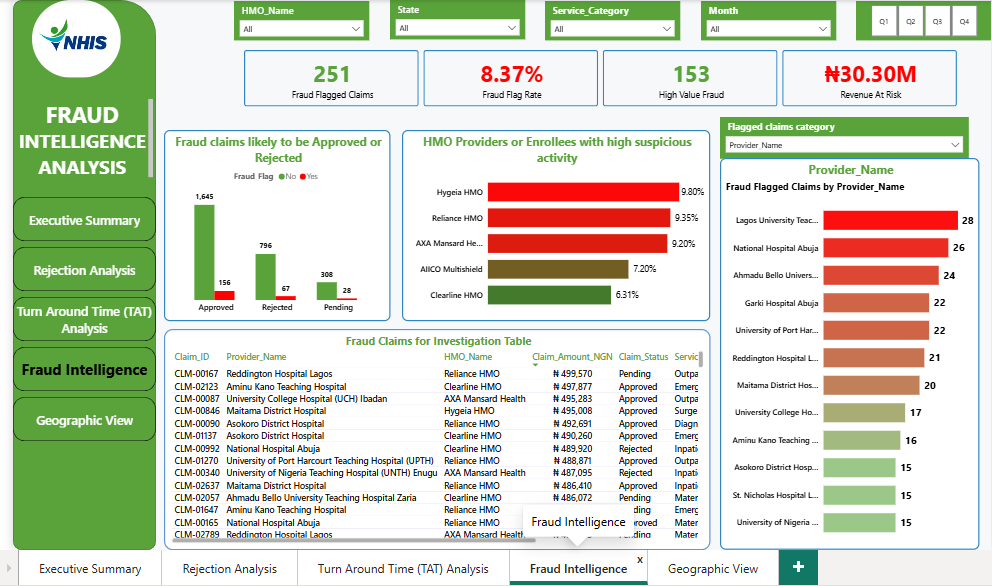

What the dashboard file says about the page in this screenshot:
{"tool":"powerbi","page":{"name":"Fraud Intelligence","canvas":[1664,935],"ordinal":4},"visuals":[{"type":"shape","box":[0,0,243.1,935],"z":0},{"type":"slicer","fields":{"Values":["Claims.State"]},"box":[640.5,0,230,67.3],"z":0,"group":"g1"},{"type":"slicer","fields":{"Values":["Claims.HMO_Name"]},"box":[375.9,1.9,230,67.3],"z":1000,"group":"g1"},{"type":"cardVisual","fields":{"Data":["Table of measure.Fraud Flagged Claims","Table of measure.Fraud Flag Rate","Table of measure.High Value Fraud","Table of measure.Revenue At Risk"]},"box":[375.9,67.3,1249.2,130.9],"z":1000},{"type":"slicer","fields":{"Values":["Claims.Service_Category"]},"box":[905.1,1.9,230,67.3],"z":2000,"group":"g1"},{"type":"clusteredBarChart","title":"HMO Providers or Enrollees with high suspicious activity","fields":{"Category":["Claims.HMO_Name"],"Y":["Table of measure.Fraud Flag Rate"]},"box":[662,220.7,523.6,325.4],"z":2000},{"type":"slicer","fields":{"Values":["datetable.Date.Variation.Date Hierarchy.Month"]},"box":[1169.7,1.9,230,67],"z":3000,"group":"g1"},{"type":"slicer","fields":{"Values":["Flagged claims category.Flagged claims category"]},"box":[1202.4,198.2,422.6,71.1],"z":3000},{"type":"slicer","fields":{"Values":["datetable.Quarter"]},"box":[1434,1.9,230,67.3],"z":4000,"group":"g1"},{"type":"clusteredBarChart","fields":{"Category":["Claims.Provider_Name"],"Y":["Table of measure.Fraud Flagged Claims"]},"box":[1202.4,269.3,441.3,665.7],"z":4000},{"type":"image","box":[31.7,0,151.2,132.5],"z":5000},{"type":"tableEx","title":"Fraud Claims for Investigation Table","fields":{"Values":["Claims.Claim_ID","Claims.Provider_Name","Claims.HMO_Name","Sum(Claims.Claim_Amount_NGN)","Claims.Claim_Status","Claims.Service_Category","Claims.Diagnosis_Name","Claims.High_Value_Flag"]},"box":[256.2,559.1,929.4,375.9],"z":6000},{"type":"group","id":"g1","title":"Group 1","box":[375.9,0,1288.1,69.2],"z":7000},{"type":"textbox","box":[0,162.7,243.1,144],"z":8000},{"type":"clusteredColumnChart","title":"Fraud claims likely to be Approved or Rejected","fields":{"Category":["Claims.Claim_Status"],"Y":["Table of measure.Total Claims"],"Series":["Claims.Fraud_Flag"]},"box":[256.2,220.7,385.2,325.4],"z":9000},{"type":"pageNavigator","box":[0,334.7,243.1,415.1],"z":10000}]}

Visuals, with their boxes on the page's 1664x935 design canvas (x1, y1, x2, y2). These are canvas units, not pixel positions in the 992x586 screenshot, which may show the page scaled, cropped or inside an application window:
shape: crop(0, 0, 243, 935)
slicer - Claims.State: crop(640, 0, 870, 67)
slicer - Claims.HMO_Name: crop(376, 2, 606, 69)
cardVisual - Table of measure.Fraud Flagged Claims x Table of measure.Fraud Flag Rate: crop(376, 67, 1625, 198)
slicer - Claims.Service_Category: crop(905, 2, 1135, 69)
"HMO Providers or Enrollees with high suspicious activity" clusteredBarChart: crop(662, 221, 1186, 546)
slicer - datetable.Date.Variation.Date Hierarchy.Month: crop(1170, 2, 1400, 69)
slicer - Flagged claims category.Flagged claims category: crop(1202, 198, 1625, 269)
slicer - datetable.Quarter: crop(1434, 2, 1664, 69)
clusteredBarChart - Claims.Provider_Name x Table of measure.Fraud Flagged Claims: crop(1202, 269, 1644, 935)
image: crop(32, 0, 183, 132)
"Fraud Claims for Investigation Table" tableEx: crop(256, 559, 1186, 935)
"Group 1" group: crop(376, 0, 1664, 69)
textbox: crop(0, 163, 243, 307)
"Fraud claims likely to be Approved or Rejected" clusteredColumnChart: crop(256, 221, 641, 546)
pageNavigator: crop(0, 335, 243, 750)
